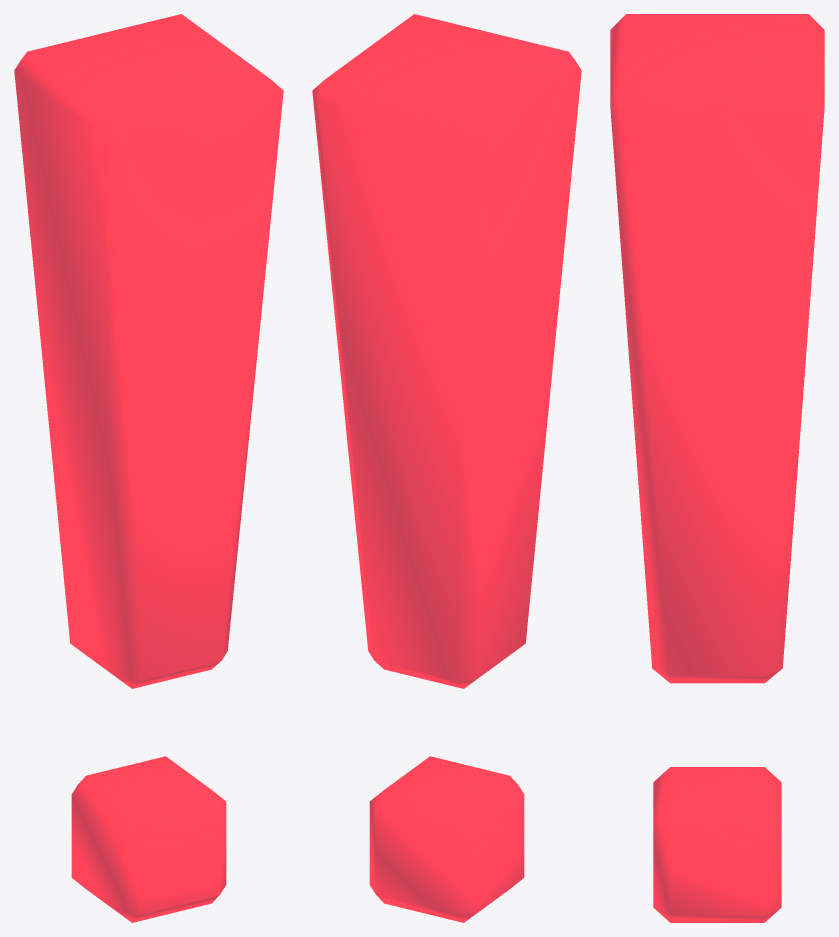
File: mark.fbx
The picture shows the model from 3 angles, left to right: view 1: azimuth 30°, elevation 25°; view 2: azimuth 150°, elevation 25°; view 3: azimuth 270°, elevation 25°; orthographic projection. The views are drawn at different scales.
Parts seen in each view (by area): view 1: Cube; view 2: Cube; view 3: Cube.
Part boxes in pixels (x1,y1,x2,y2): Cube: [14, 14, 283, 922]; Cube: [312, 14, 581, 922]; Cube: [610, 14, 824, 922].
Size of the model in its own units: 4.81 by 21.07 by 4.81.
